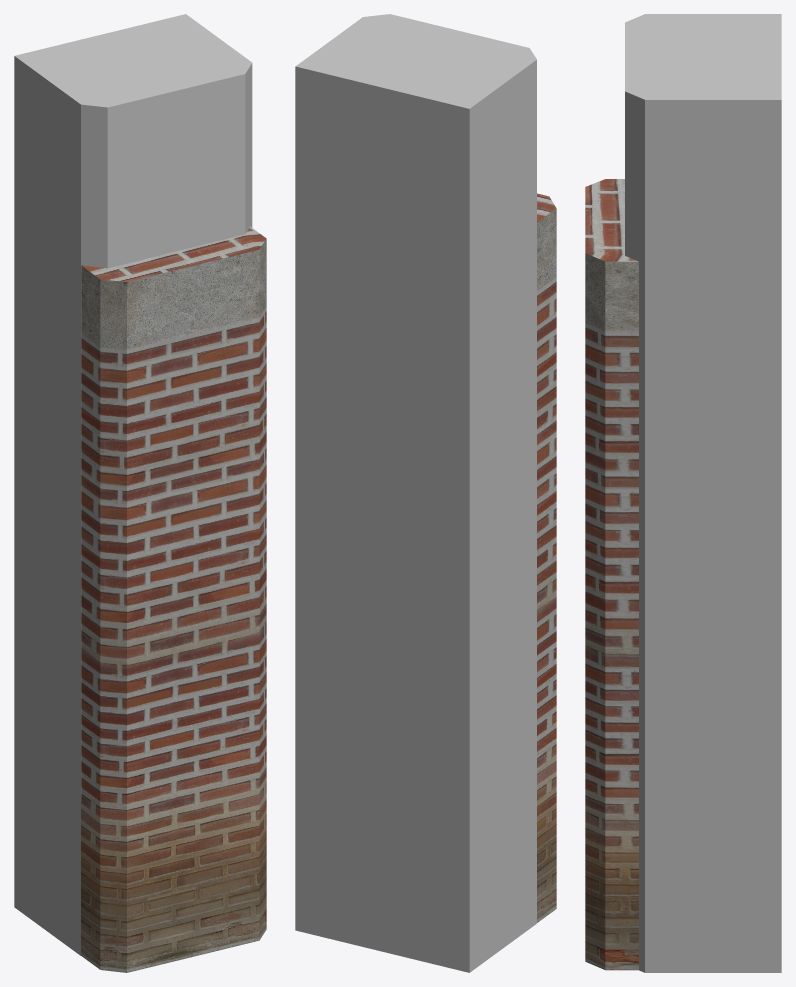
File: SM_DG_HG_Chimney01A.fbx
3 renders of one model, left to right at view 1: azimuth 30°, elevation 25°; view 2: azimuth 150°, elevation 25°; view 3: azimuth 270°, elevation 25°, orthographic. The views are drawn at different scales.
Visible parts, largest first — view 1: SM_DG_HG_Chimney01A, SM_DG_HG_Chimney01A_ConvexHulls; view 2: SM_DG_HG_Chimney01A_ConvexHulls, SM_DG_HG_Chimney01A; view 3: SM_DG_HG_Chimney01A_ConvexHulls, SM_DG_HG_Chimney01A.
Part boxes in pixels (x1,y1,x2,y2): SM_DG_HG_Chimney01A: (81,226,266,972); SM_DG_HG_Chimney01A_ConvexHulls: (14,14,252,955); SM_DG_HG_Chimney01A_ConvexHulls: (295,14,536,972); SM_DG_HG_Chimney01A: (537,193,556,922); SM_DG_HG_Chimney01A_ConvexHulls: (625,14,781,972); SM_DG_HG_Chimney01A: (585,179,638,970).
Bounding box in the file's own units: 102 × 98.51 × 484.
Materials: 2 (1 with a texture image).
